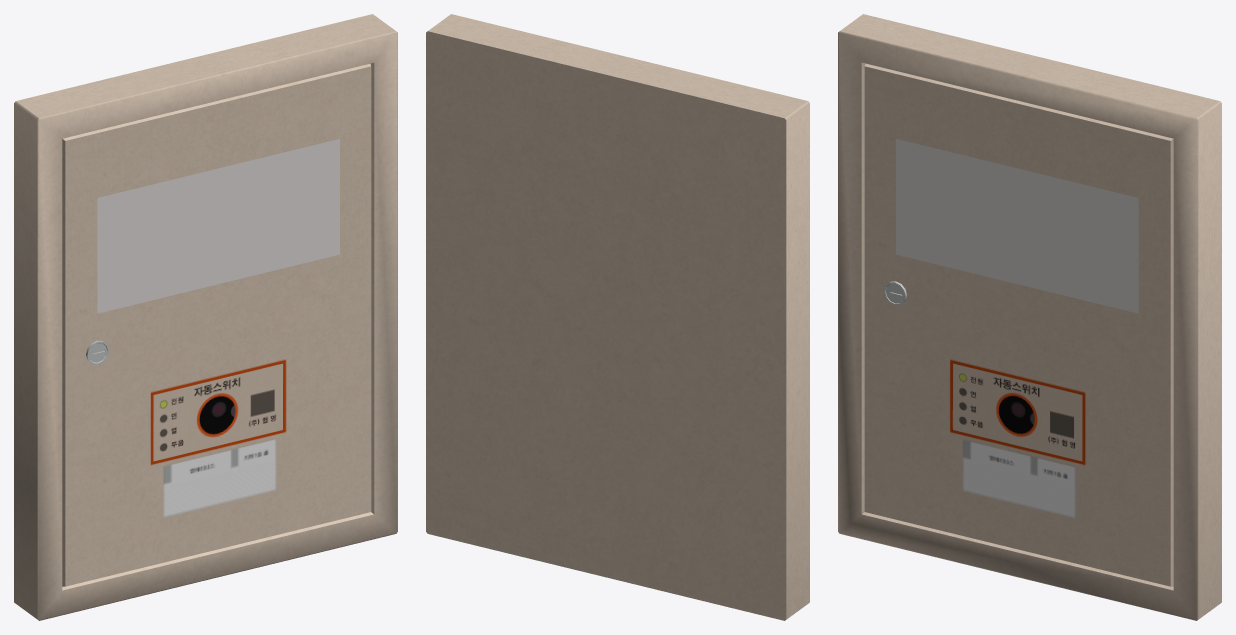
The model's file is LC_3046_Firealarm_Operationbox_LOD3.FBX.
The picture shows the model from 3 angles, left to right: view 1: azimuth 30°, elevation 25°; view 2: azimuth 150°, elevation 25°; view 3: azimuth 330°, elevation 25°; orthographic projection.
Parts seen in each view (by area): view 1: LC_3046_Firealarm_Operationbox_LOD3; view 2: LC_3046_Firealarm_Operationbox_LOD3; view 3: LC_3046_Firealarm_Operationbox_LOD3.
Part boxes in pixels (x1,y1,x2,y2): LC_3046_Firealarm_Operationbox_LOD3: (14,14,397,620); LC_3046_Firealarm_Operationbox_LOD3: (426,14,809,620); LC_3046_Firealarm_Operationbox_LOD3: (838,14,1221,620).
Bounding box in the file's own units: 30 × 40 × 3.68.
1 material, 1 textured.
